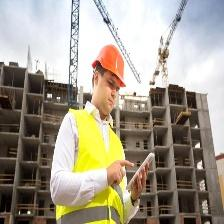Person: (51, 42, 135, 224)
helmet: (92, 44, 127, 91)
vest: (69, 104, 129, 224)
